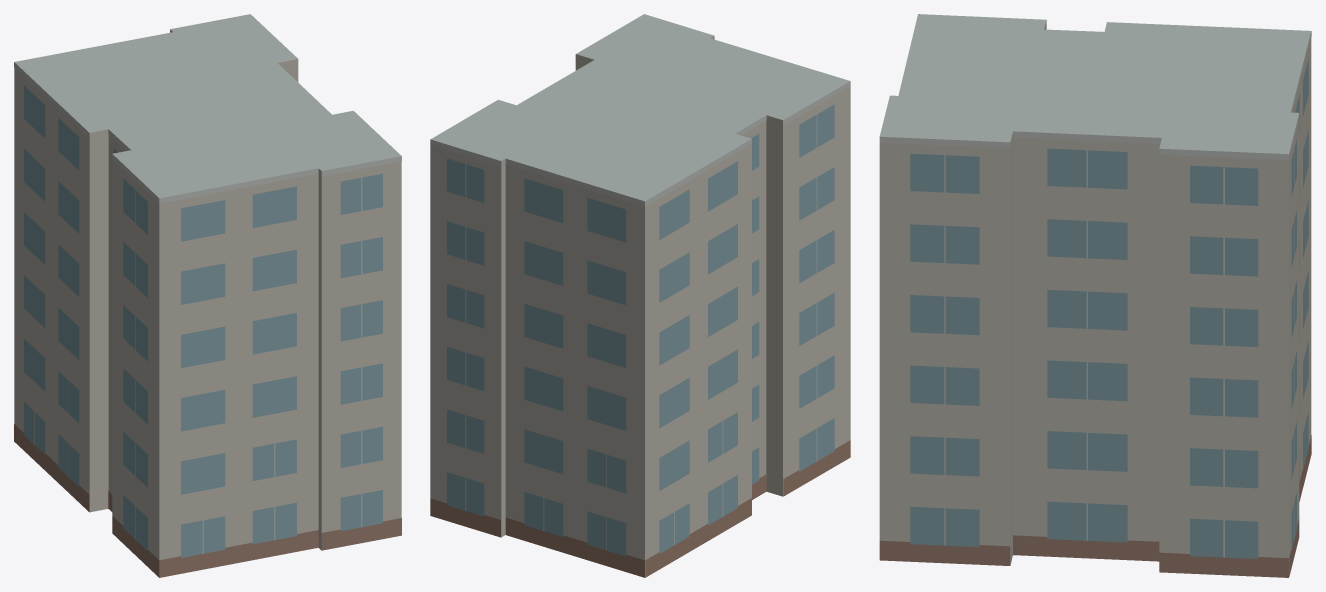
The model's file is survey-upis-32747175.glb.
3 renders of one model, left to right at view 1: azimuth 30°, elevation 25°; view 2: azimuth 150°, elevation 25°; view 3: azimuth 270°, elevation 25°, orthographic. The views are drawn at different scales.
Parts seen in each view (by area): view 1: survey-upis-32747175.tmp; view 2: survey-upis-32747175.tmp; view 3: survey-upis-32747175.tmp.
Boxes of the visible parts, x1=… form: survey-upis-32747175.tmp: x1=14, y1=14, x2=401, y2=577; survey-upis-32747175.tmp: x1=430, y1=14, x2=850, y2=577; survey-upis-32747175.tmp: x1=879, y1=14, x2=1311, y2=577.
Size of the model in its own units: 12.15 by 17.1 by 15.8.
